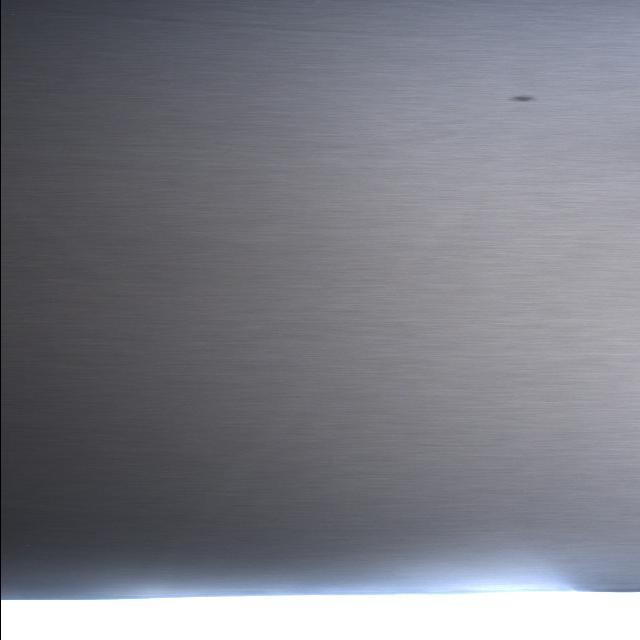crease: (166, 363, 354, 541), (31, 11, 374, 36), (363, 210, 472, 281)
